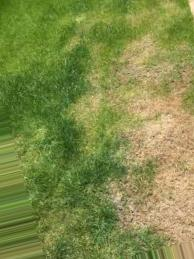patch: (120, 137, 190, 173), (122, 187, 183, 223), (130, 90, 194, 123), (120, 40, 166, 73)
